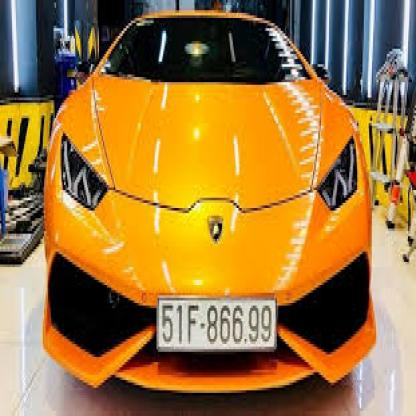biensoxe: (156, 298, 278, 357)
